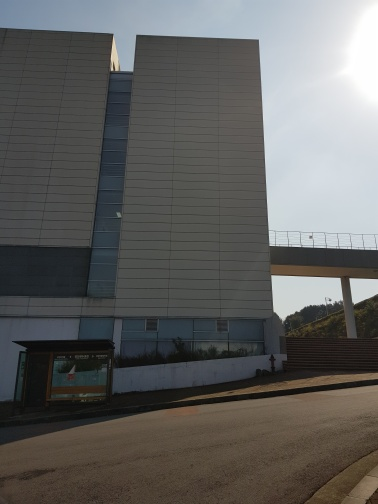Engineering College Building 4: (6, 27, 277, 385), (124, 29, 259, 394), (37, 329, 111, 404)
